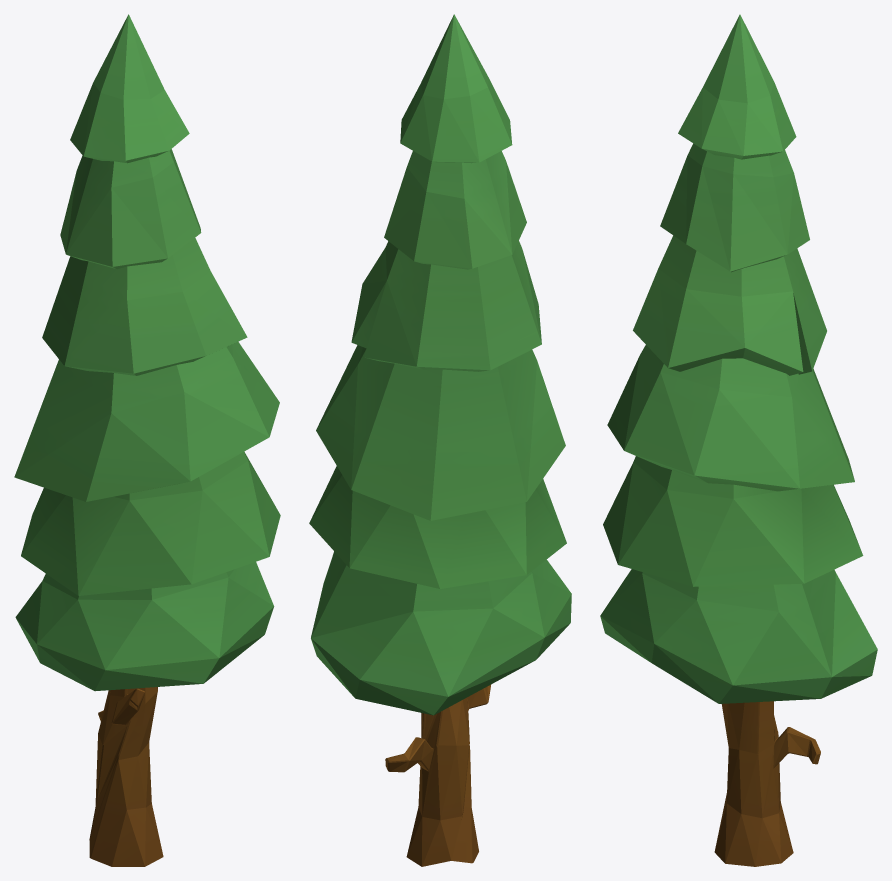
File: tree_spire.glb
3 renders of one model, left to right at view 1: azimuth 30°, elevation 25°; view 2: azimuth 150°, elevation 25°; view 3: azimuth 270°, elevation 25°, orthographic.
Parts seen in each view (by area): view 1: Tree_8_AA; view 2: Tree_8_AA; view 3: Tree_8_AA.
Boxes of the visible parts, bbox=[...] form: Tree_8_AA: bbox=[14, 14, 280, 866]; Tree_8_AA: bbox=[309, 14, 571, 866]; Tree_8_AA: bbox=[600, 14, 877, 866].
Size of the model in its own units: 1.15 by 4.05 by 1.22.
Materials: 1 (1 with a texture image).
